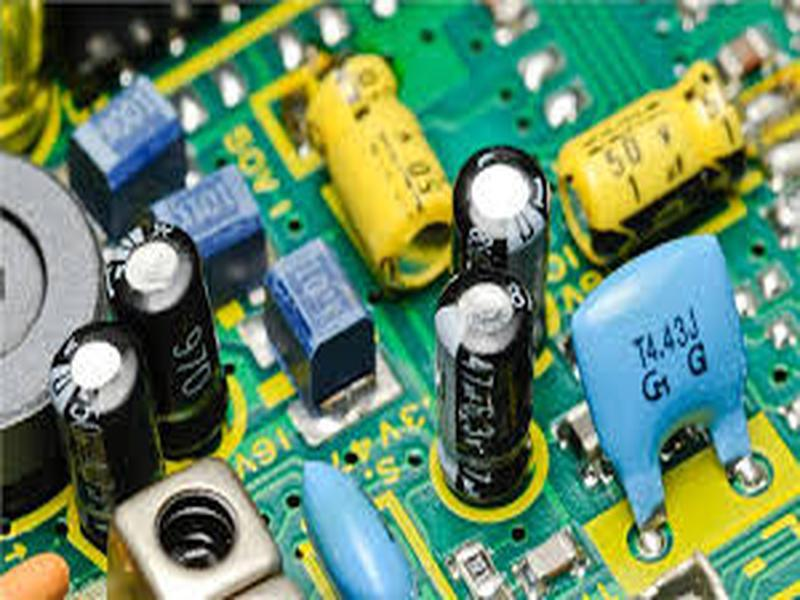electrolytic capacitor: (103, 224, 225, 447), (431, 278, 534, 489), (450, 144, 555, 342), (50, 324, 155, 507)
